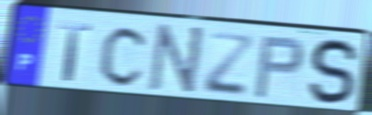C: (97, 24, 151, 89)
N: (146, 22, 207, 99)
P: (252, 35, 306, 101)
S: (307, 37, 360, 108)
T: (56, 20, 94, 83)
Z: (201, 29, 257, 98)
